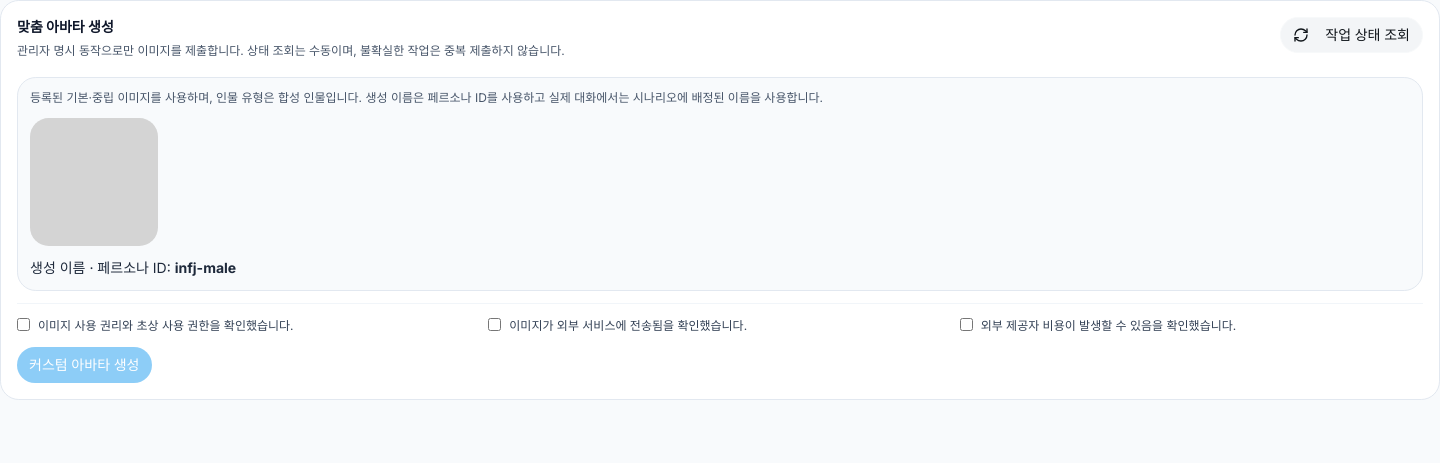
explicit custom avatar creation UI › does not provision or mark the job uncertain when reading the existing image fails
The image size is (1440, 463).
What coordinates should you click on to do the following:
click the checkbox labelled "이미지 사용 권리와 초상 사용 권한을 확인했습니다."
I would click on:
 (24, 324)
Its box is top-left (17, 318), bottom-right (30, 330).
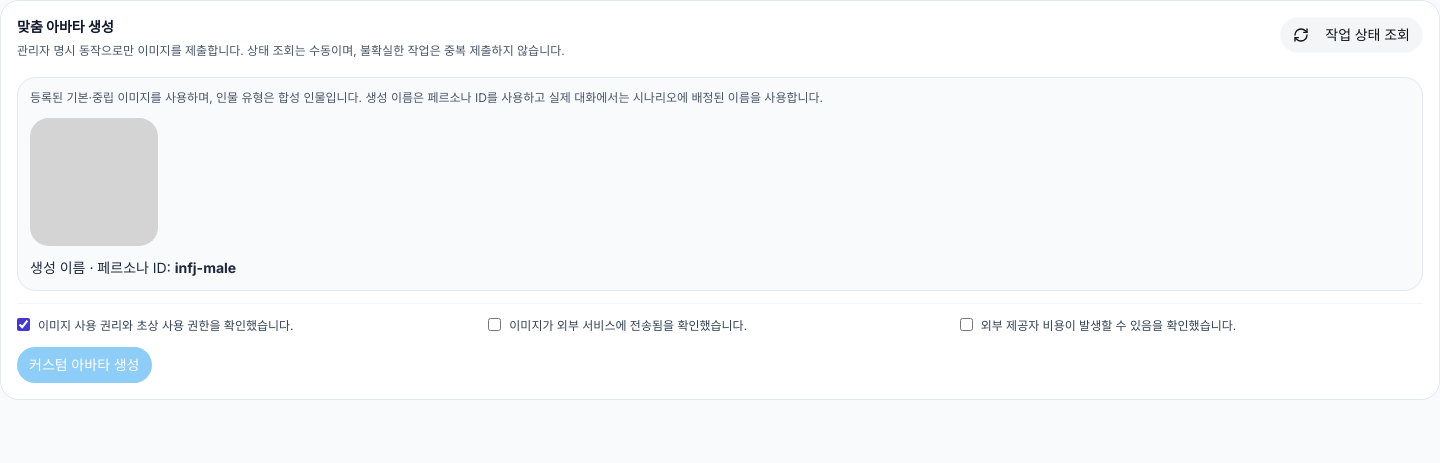
What coordinates should you click on to do the following:
click the checkbox labelled "이미지가 외부 서비스에 전송됨을 확인했습니다."
I would click on:
 (495, 324)
Its box is top-left (488, 318), bottom-right (501, 330).
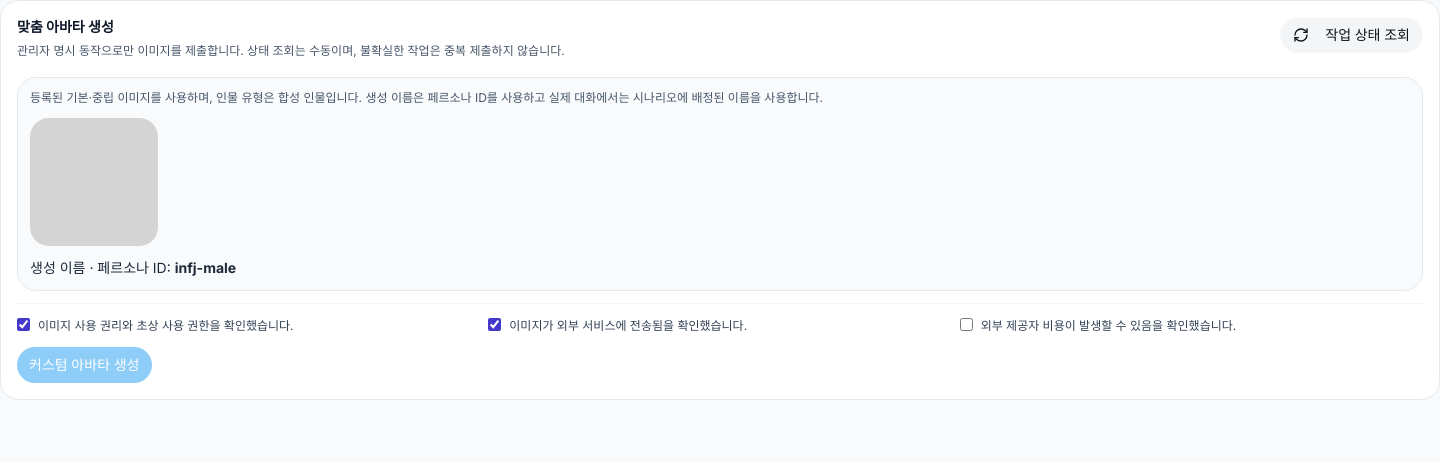
What coordinates should you click on to do the following:
click the checkbox labelled "외부 제공자 비용이 발생할 수 있음을 확인했습니다."
I would click on:
 (966, 324)
Its box is top-left (960, 318), bottom-right (973, 330).
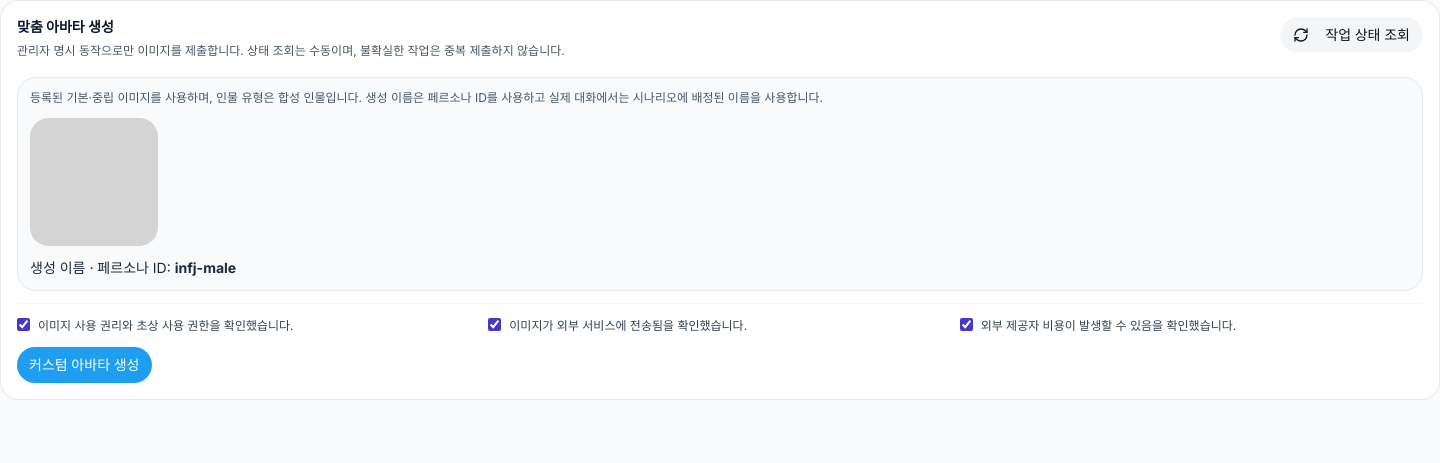
What coordinates should you click on to do the following:
click the button "커스텀 아바타 생성"
I would click on:
 (84, 365)
Its box is top-left (17, 347), bottom-right (152, 383).
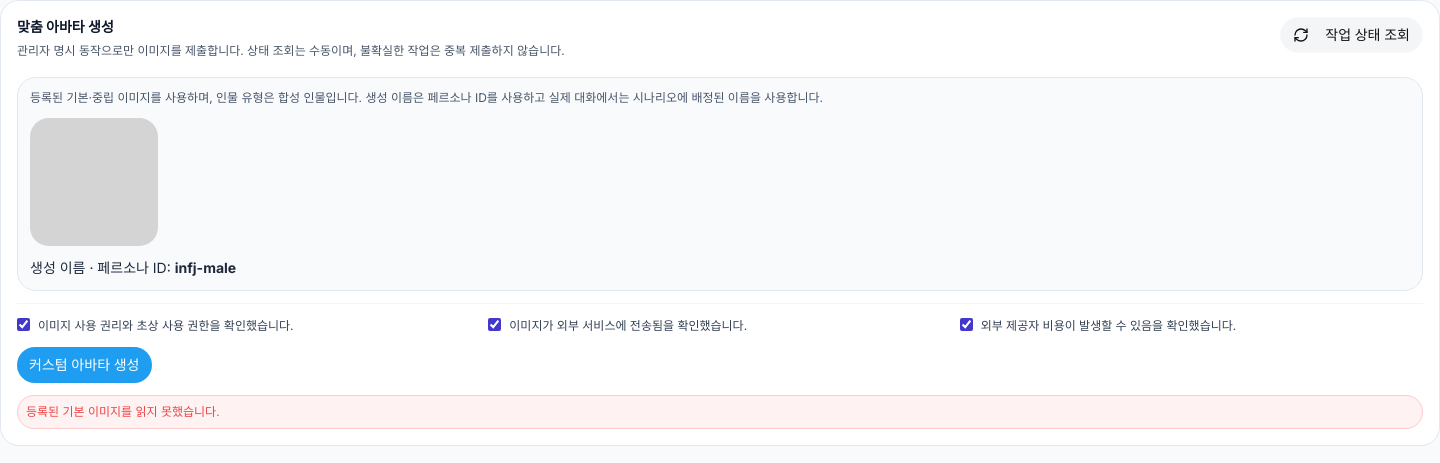
Now the message shows "기본 이미지를 읽지 못했습니다.", box top-left (26, 404), bottom-right (220, 419)
